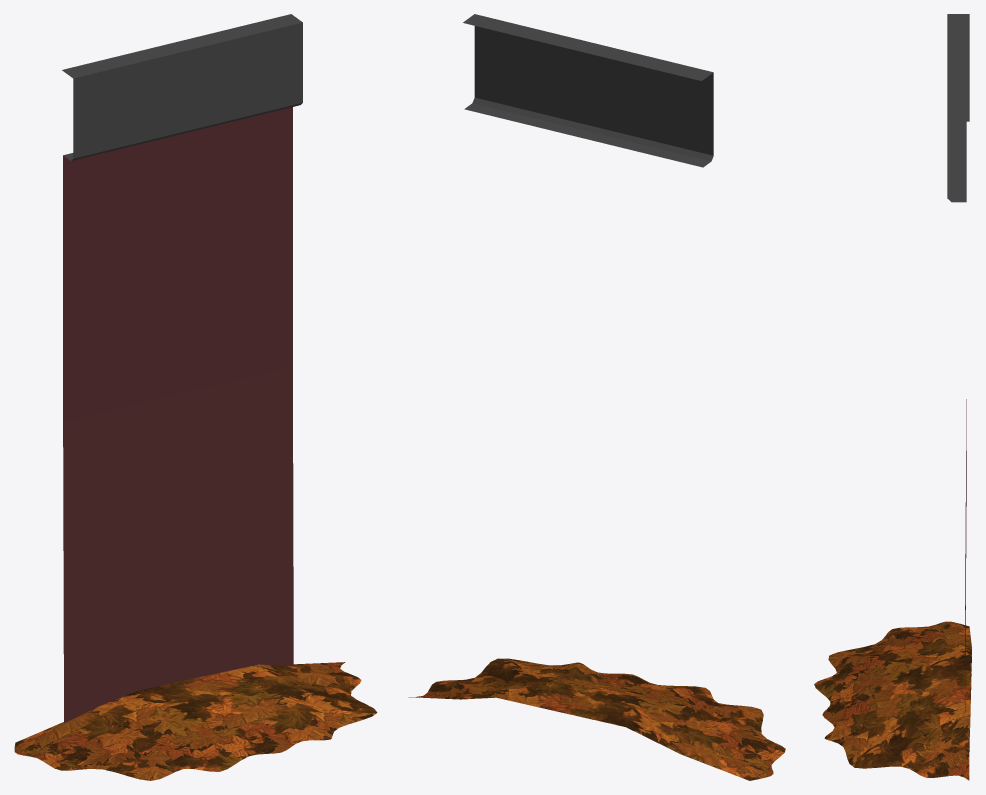
File: Y_WallBase.fbx
3 renders of one model, left to right at view 1: azimuth 30°, elevation 25°; view 2: azimuth 150°, elevation 25°; view 3: azimuth 270°, elevation 25°, orthographic. The views are drawn at different scales.
Parts seen in each view (by area): view 1: P_Doorway.099; view 2: P_Doorway.099; view 3: P_Doorway.099.
Boxes of the visible parts, x1,y1,x2,y2 form: P_Doorway.099: (14,14,377,780); P_Doorway.099: (408,14,785,780); P_Doorway.099: (814,14,971,780).
Bounding box in the file's own units: 593 × 1100 × 248.
